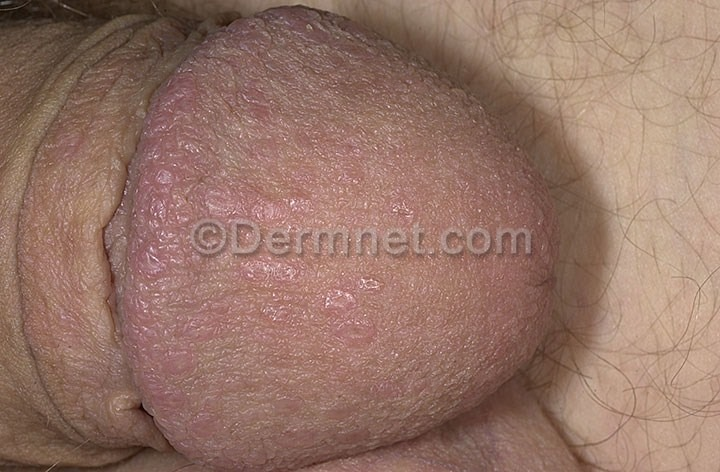Psoriasis: (75, 32, 551, 444)
